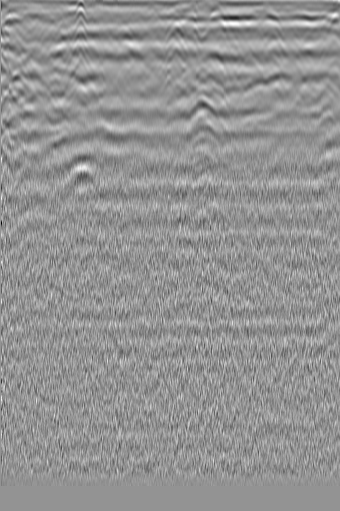상수: (286, 40, 324, 74)
오수: (0, 71, 34, 102)
우수: (135, 40, 169, 71)
